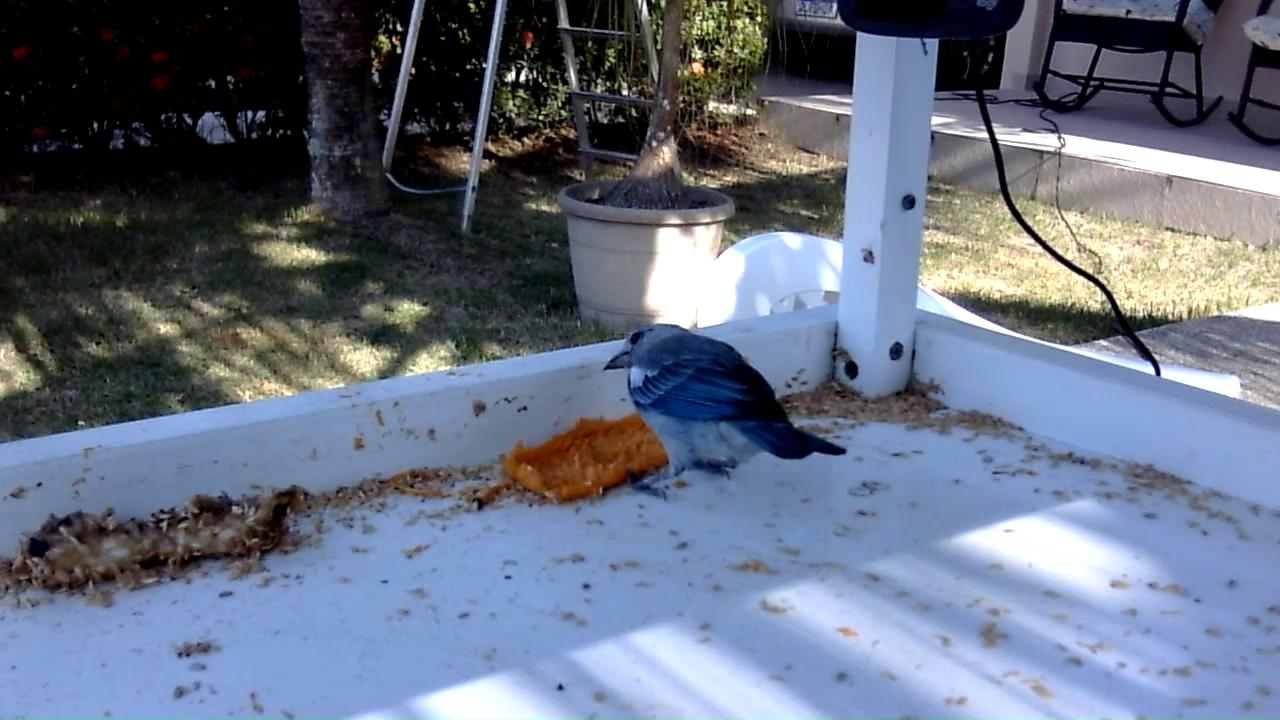sanhaco_da_amazonia: (601, 323, 852, 508)
